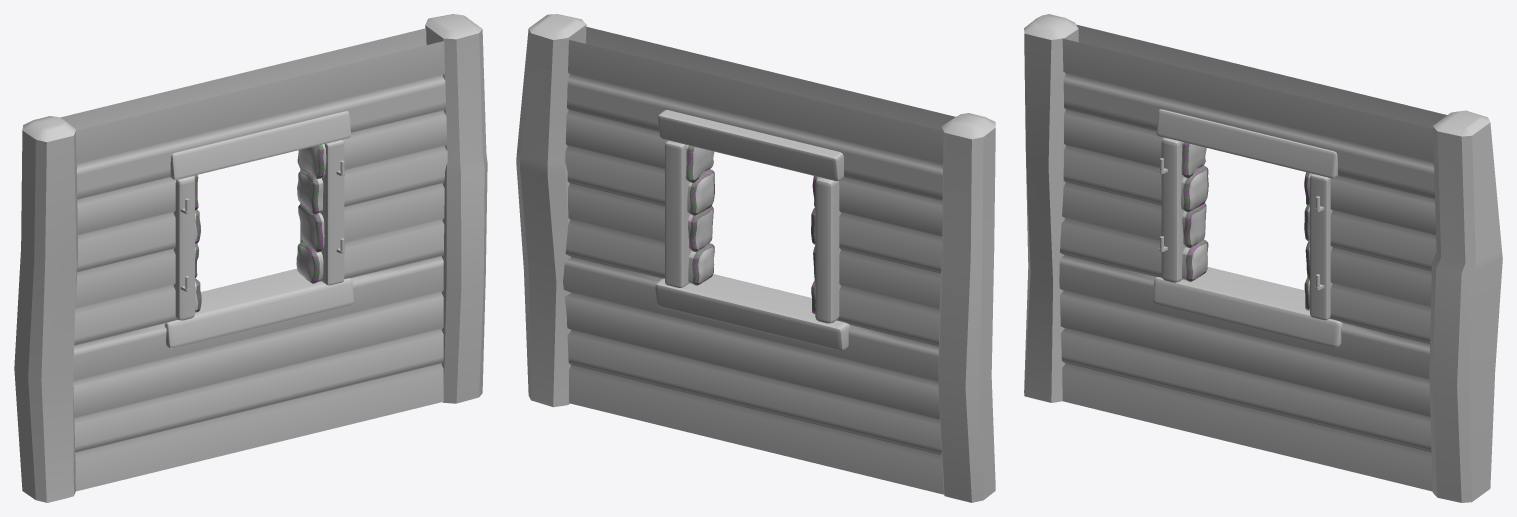
Rendered from SM_wallWindow3mB_a1.fbx.
3 views of the same model, side by side, from view 1: azimuth 30°, elevation 25°; view 2: azimuth 150°, elevation 25°; view 3: azimuth 330°, elevation 25° (orthographic).
Parts seen in each view (by area): view 1: SM_wallWindow3mB_a1_LOD0; view 2: SM_wallWindow3mB_a1_LOD0; view 3: SM_wallWindow3mB_a1_LOD0.
Boxes of the visible parts, x1=… form: SM_wallWindow3mB_a1_LOD0: x1=14, y1=14, x2=487, y2=502; SM_wallWindow3mB_a1_LOD0: x1=516, y1=14, x2=995, y2=502; SM_wallWindow3mB_a1_LOD0: x1=1024, y1=14, x2=1502, y2=502.
Bounding box in the file's own units: 334 × 44.44 × 258.
3 materials, 1 textured.
